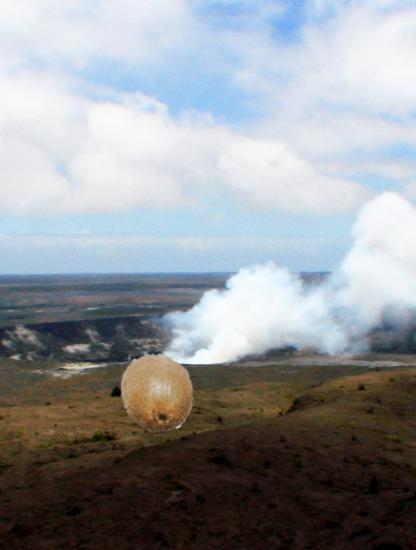Kiwi: (116, 352, 198, 434)
